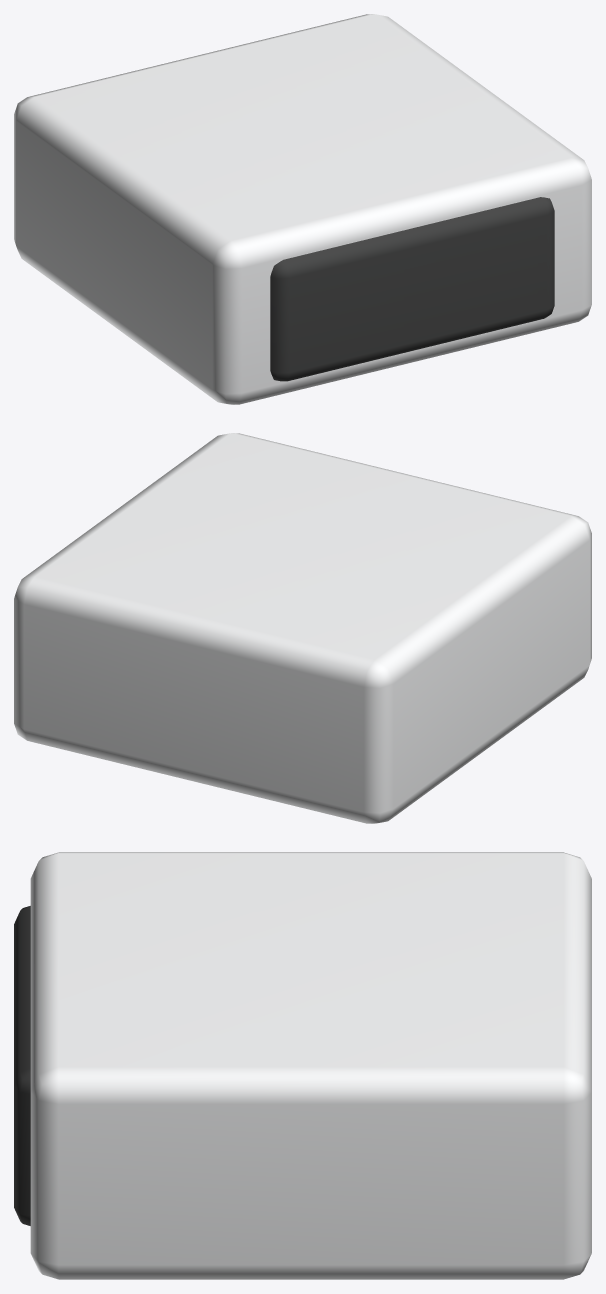
The model's file is cup_platform_001.glb.
3 views of the same model, one above another, from view 1: azimuth 30°, elevation 25°; view 2: azimuth 150°, elevation 25°; view 3: azimuth 270°, elevation 25° (orthographic). The views are drawn at different scales.
Parts seen in each view (by area): view 1: cup_platform_001; view 2: cup_platform_001; view 3: cup_platform_001.
Boxes of the visible parts, x1,y1,x2,y2 form: cup_platform_001: (14,14,591,404); cup_platform_001: (14,433,591,823); cup_platform_001: (14,852,591,1279).
Bounding box in the file's own units: 6.95 × 2.89 × 7.15.
1 material, 1 textured.
